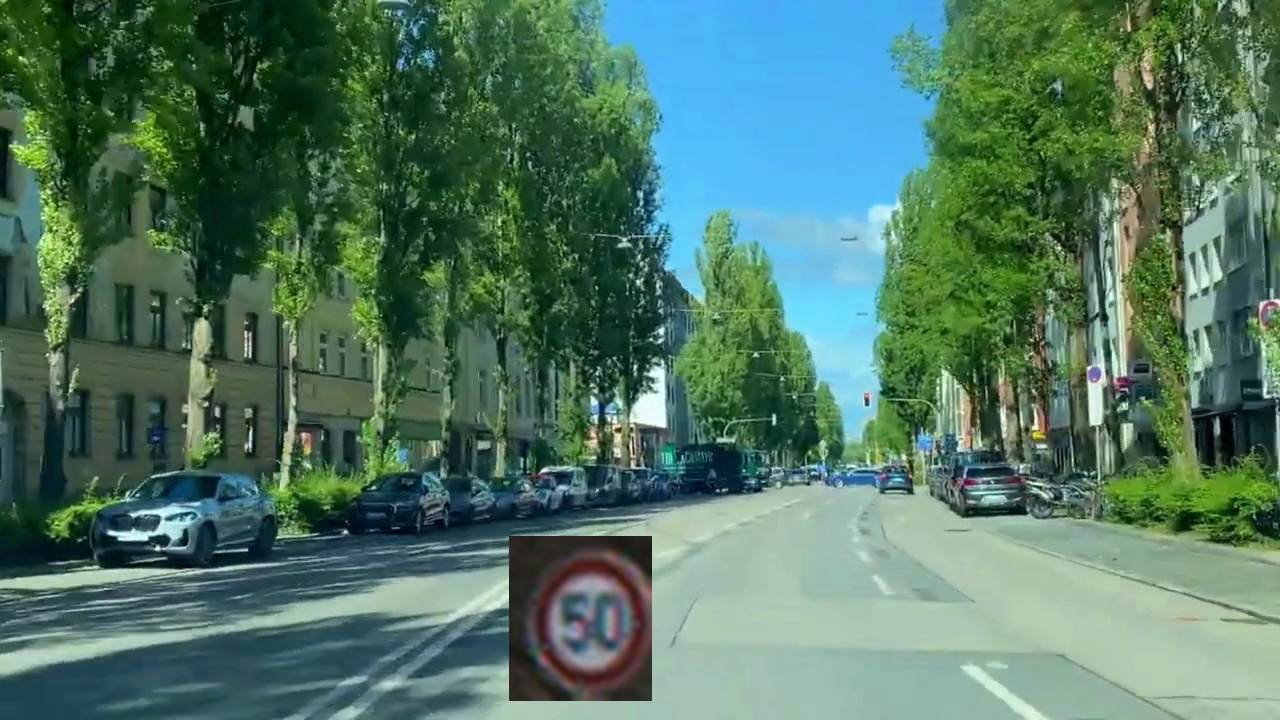Speed 50: (509, 536, 652, 701)
